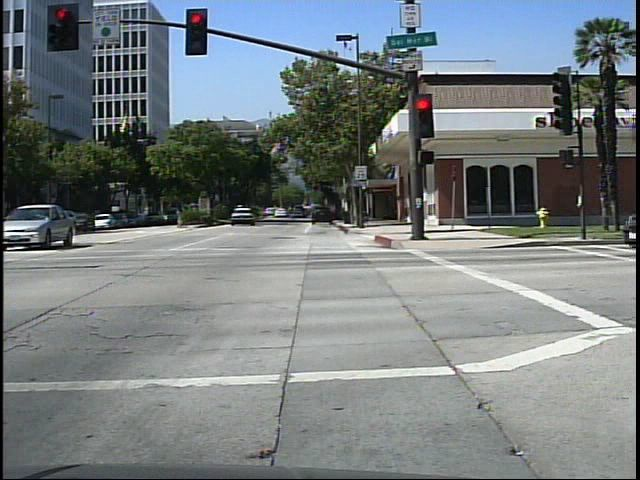person: (285, 203, 298, 222)
